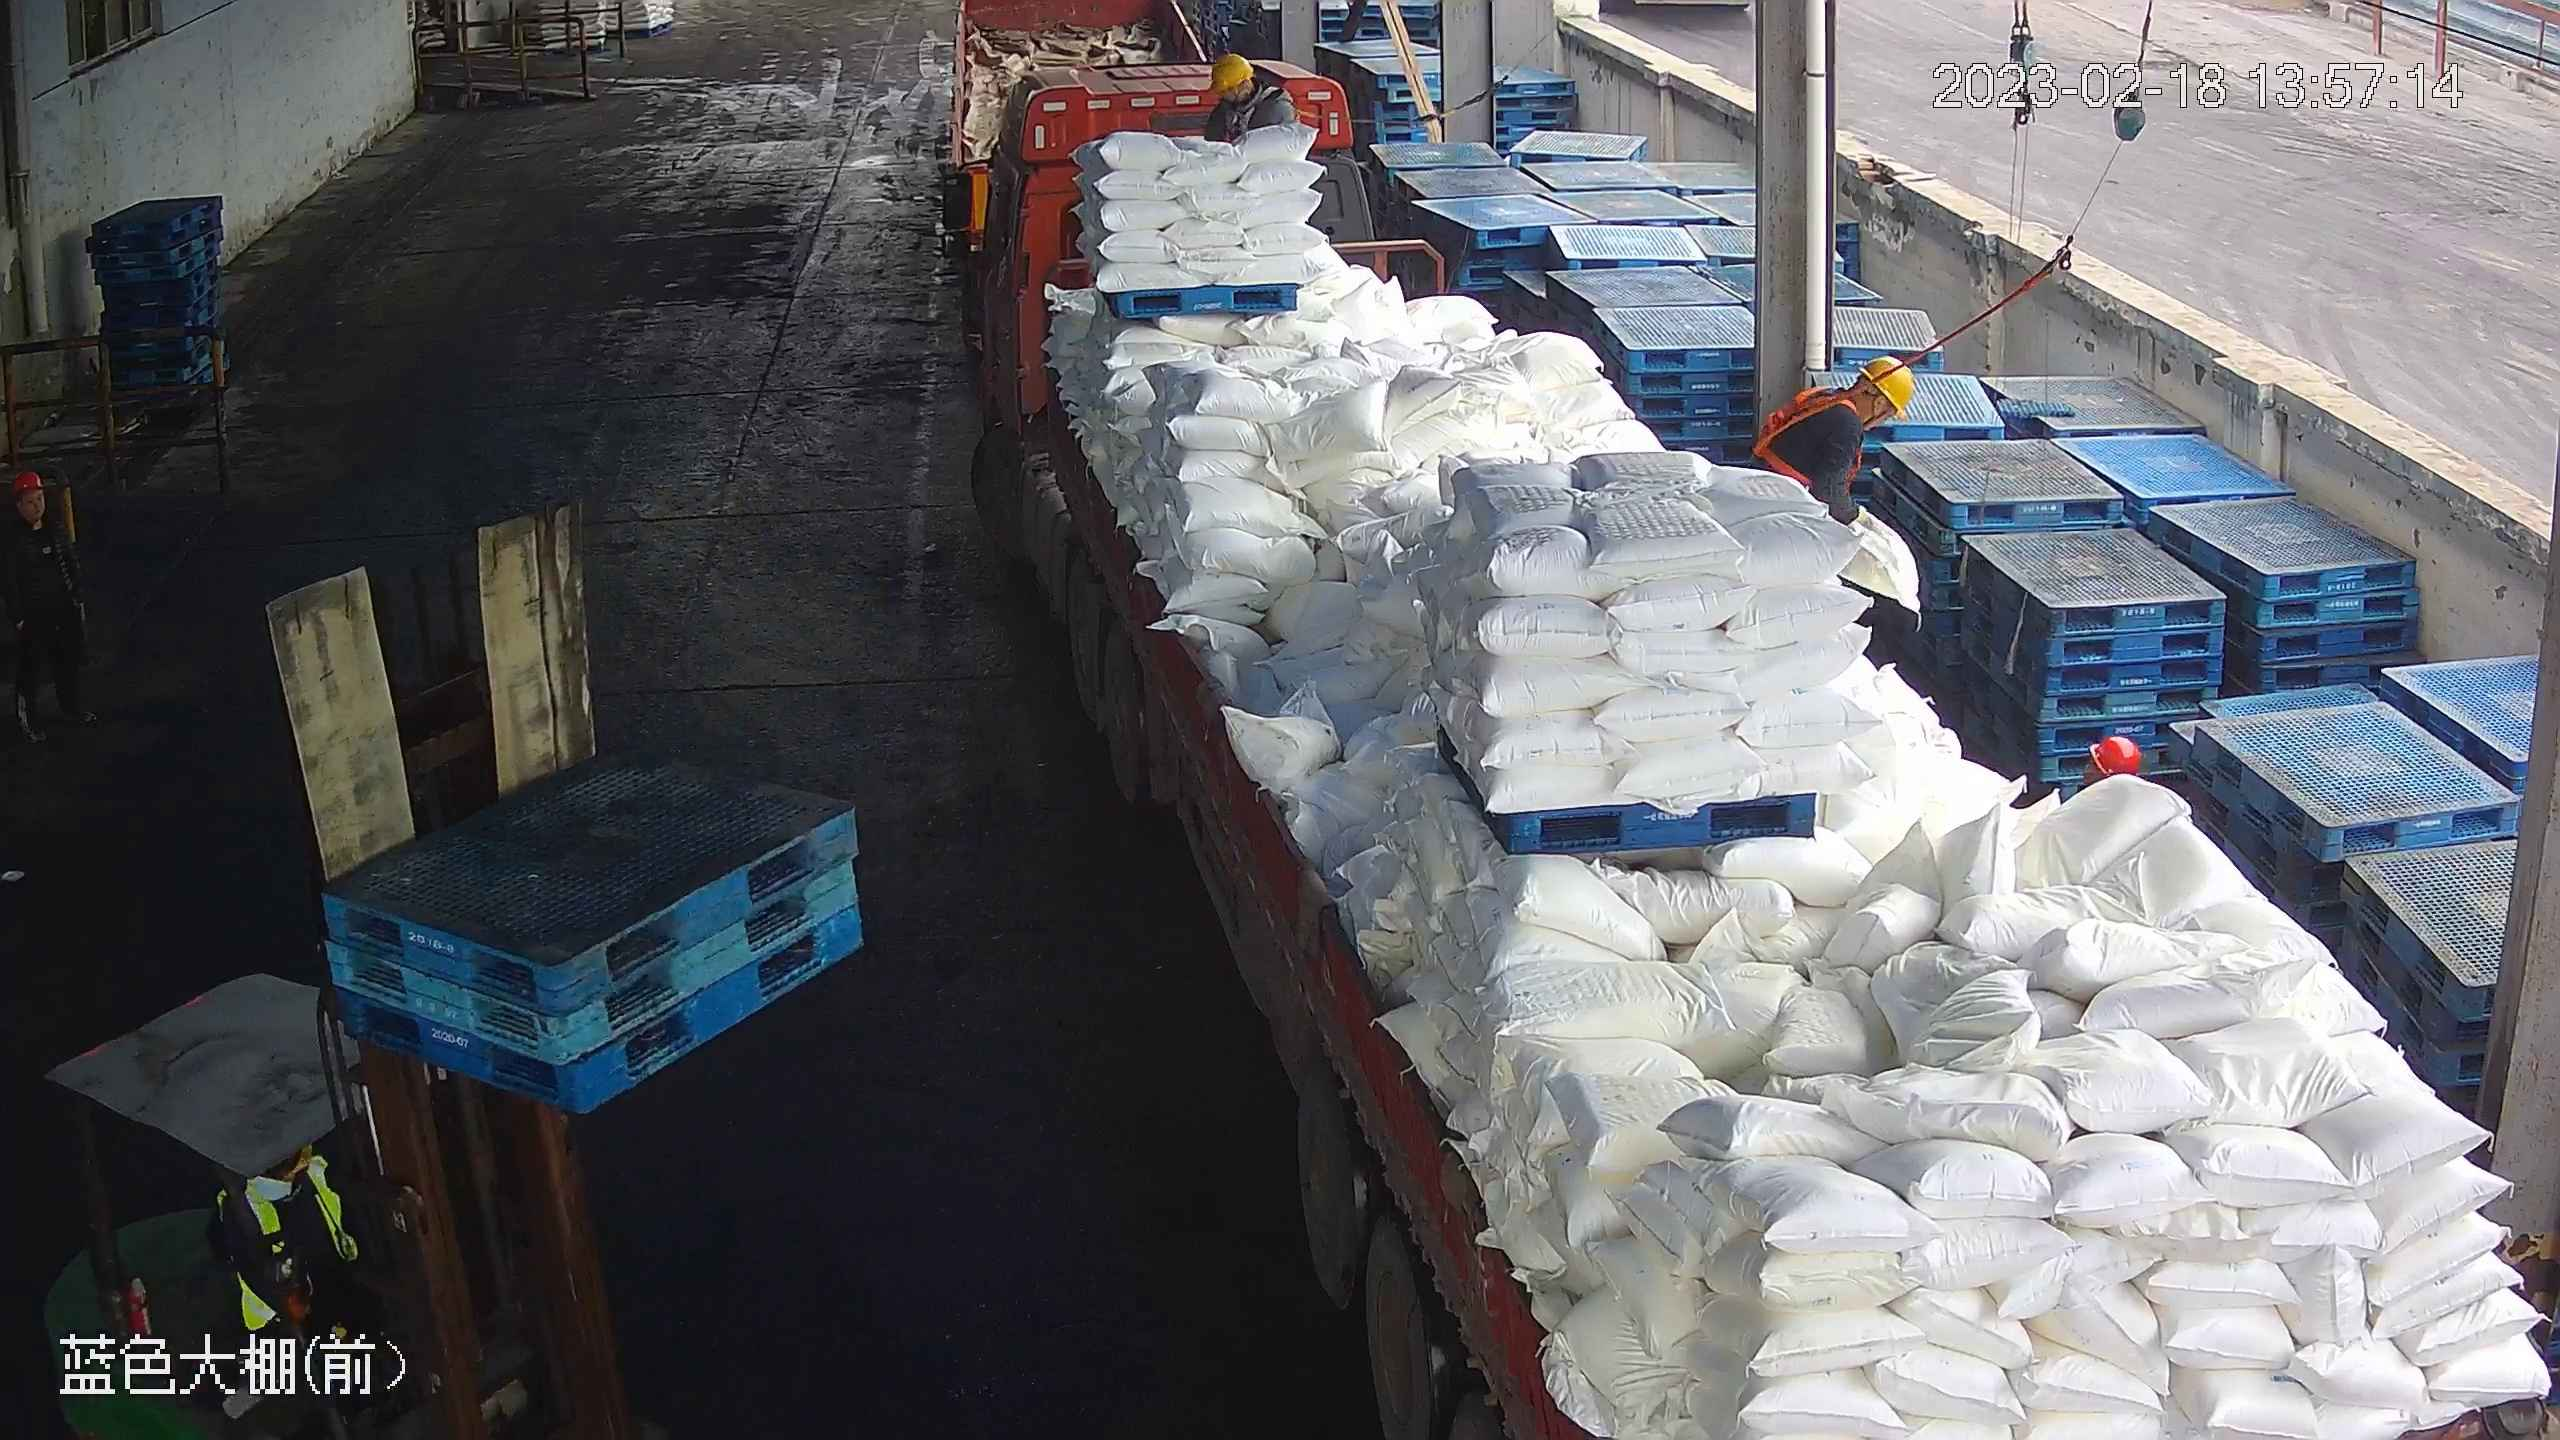belt: (1756, 386, 1863, 476), (1231, 79, 1283, 125)
head: (1789, 354, 1916, 458), (1207, 51, 1289, 117)
helmet: (1863, 354, 1918, 422), (2090, 734, 2142, 781), (1205, 50, 1254, 92)
truck: (939, 51, 2555, 1440)
